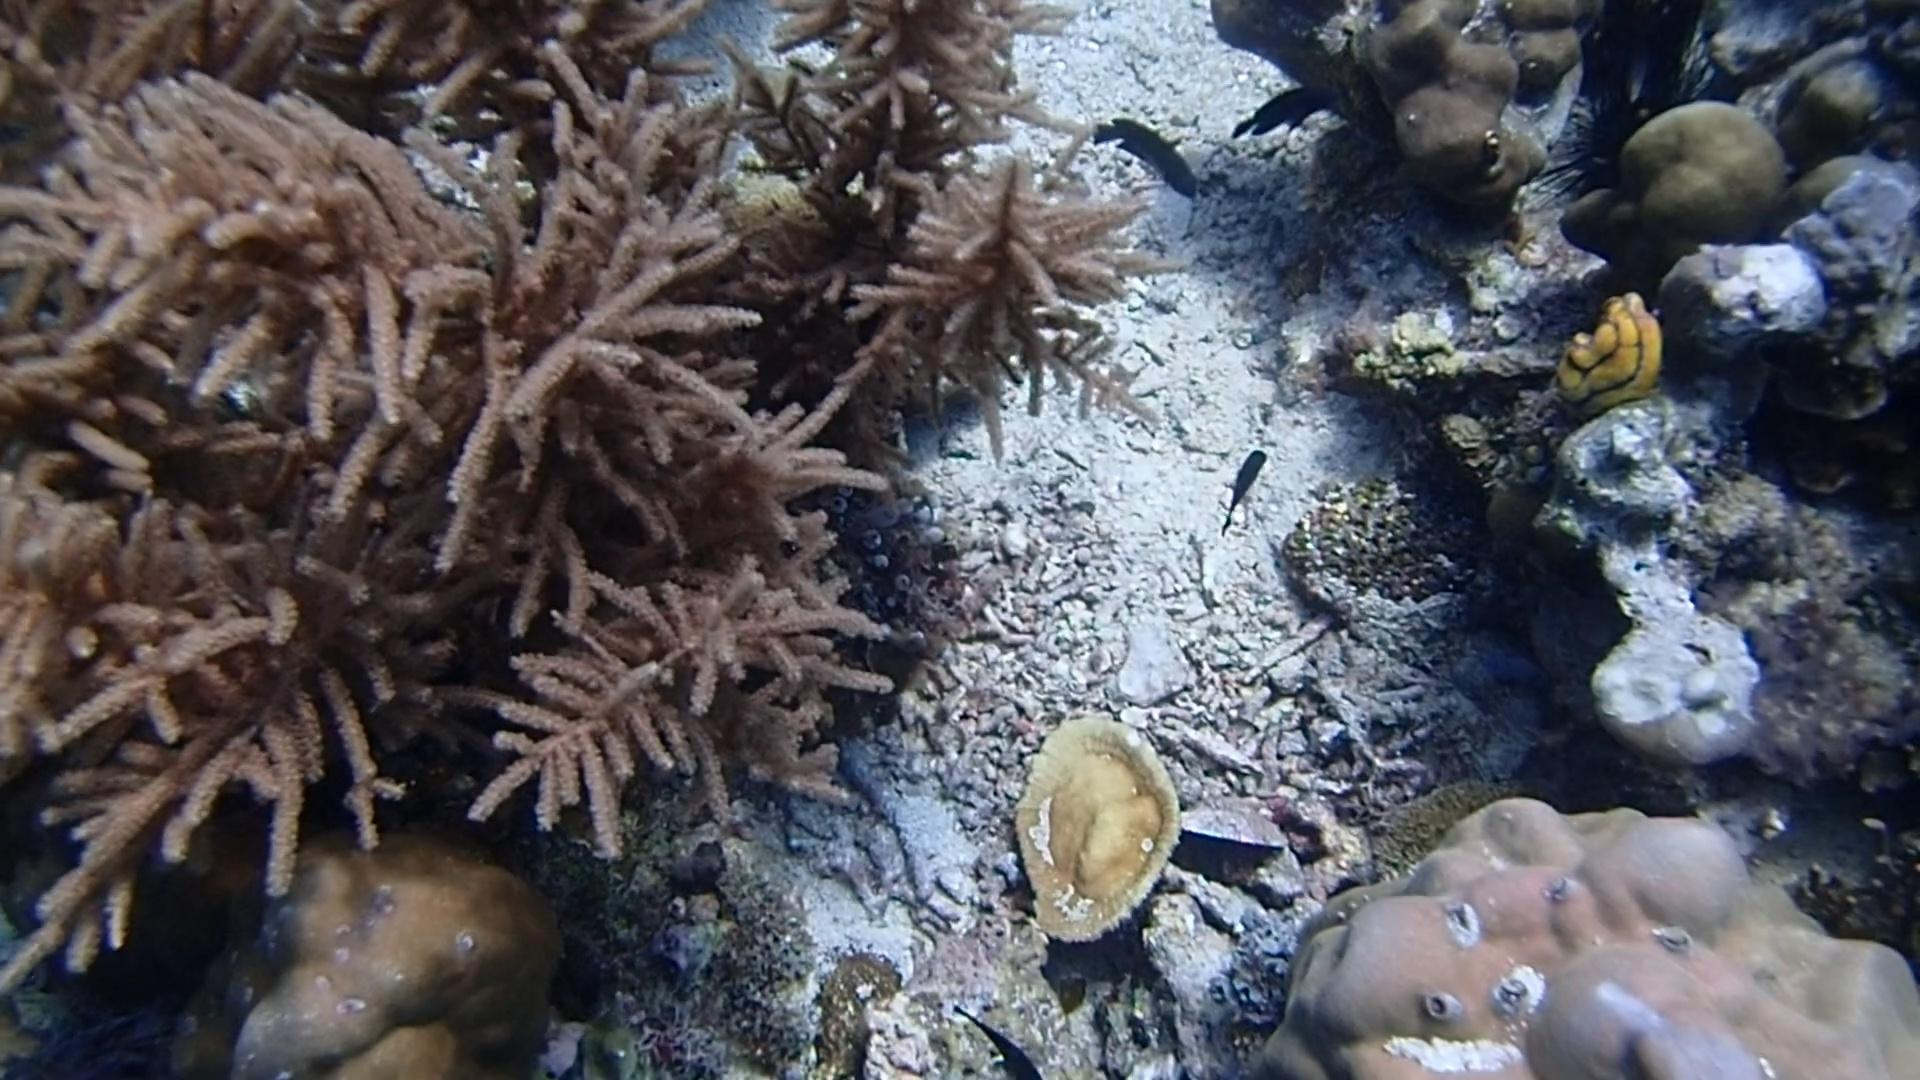Dark Fish: (1087, 104, 1201, 212), (948, 994, 1055, 1080), (1225, 79, 1341, 146), (1216, 436, 1273, 530)
